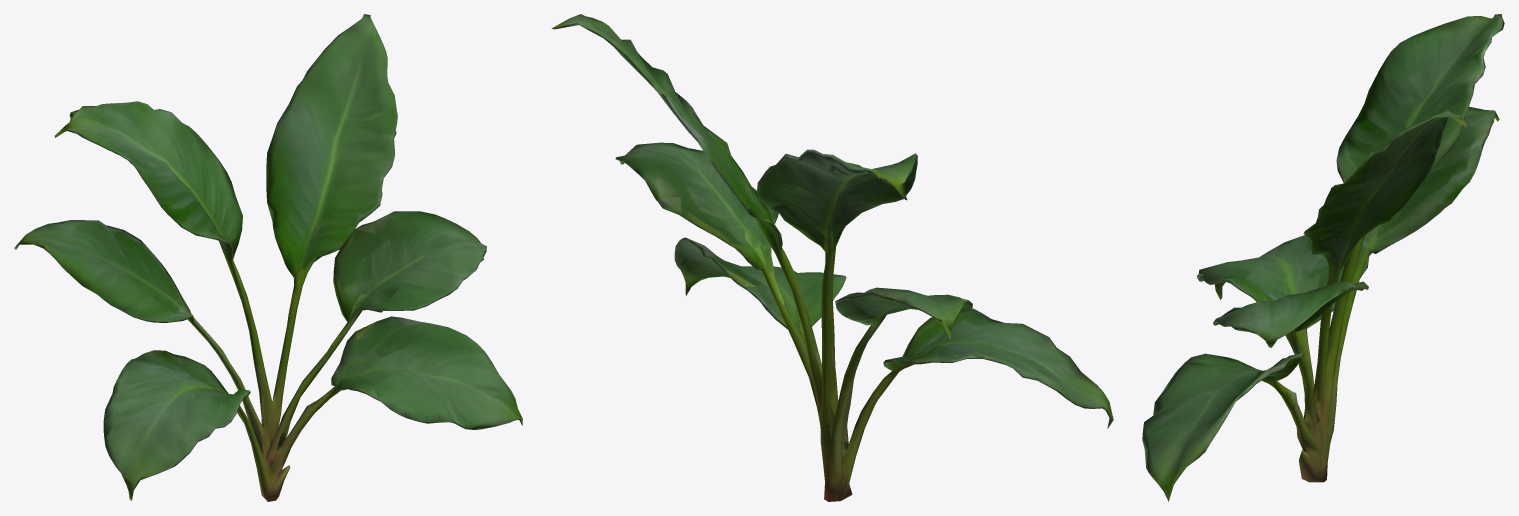
File: marantaceae.glb
3 renders of one model, left to right at view 1: azimuth 30°, elevation 25°; view 2: azimuth 150°, elevation 25°; view 3: azimuth 270°, elevation 25°, orthographic. The views are drawn at different scales.
Visible parts, largest first — view 1: lod0; view 2: lod0; view 3: lod0.
Boxes of the visible parts, x1,y1,x2,y2 form: lod0: [14, 14, 522, 501]; lod0: [551, 14, 1113, 501]; lod0: [1142, 14, 1504, 501].
Size of the model in its own units: 0.5998 by 0.5986 by 0.4364.
1 material, 1 textured.
